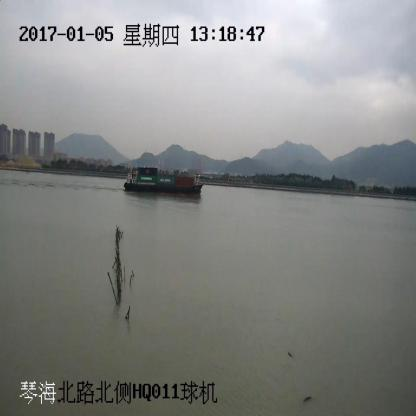Container Ship: (124, 166, 203, 196)
